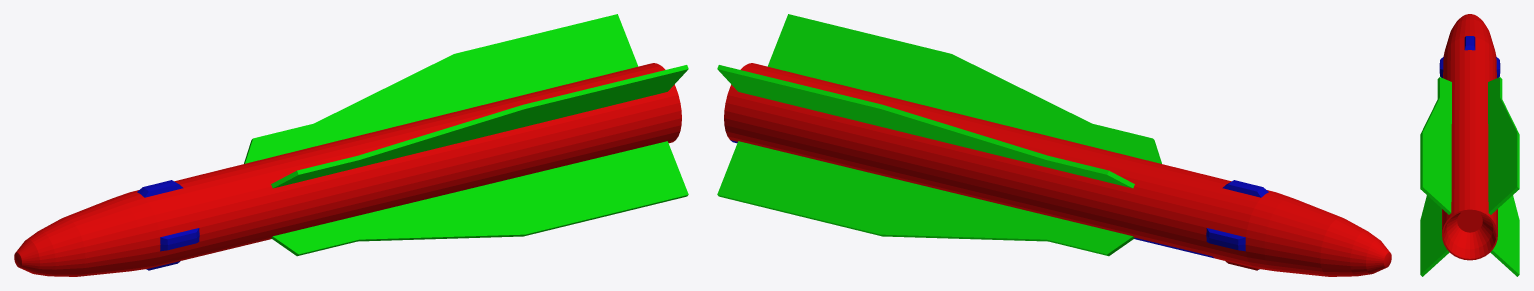
File: Jet_Missile.fbx
3 views of the same model, side by side, from view 1: azimuth 30°, elevation 25°; view 2: azimuth 150°, elevation 25°; view 3: azimuth 270°, elevation 25° (orthographic). The views are drawn at different scales.
Visible parts, largest first — view 1: Main missile; view 2: Main missile; view 3: Main missile.
Part boxes in pixels (x1,y1,x2,y2): Main missile: (14,14,688,276); Main missile: (717,14,1391,276); Main missile: (1420,14,1519,276).
Bounding box in the file's own units: 3.08 × 0.6014 × 0.6014.
